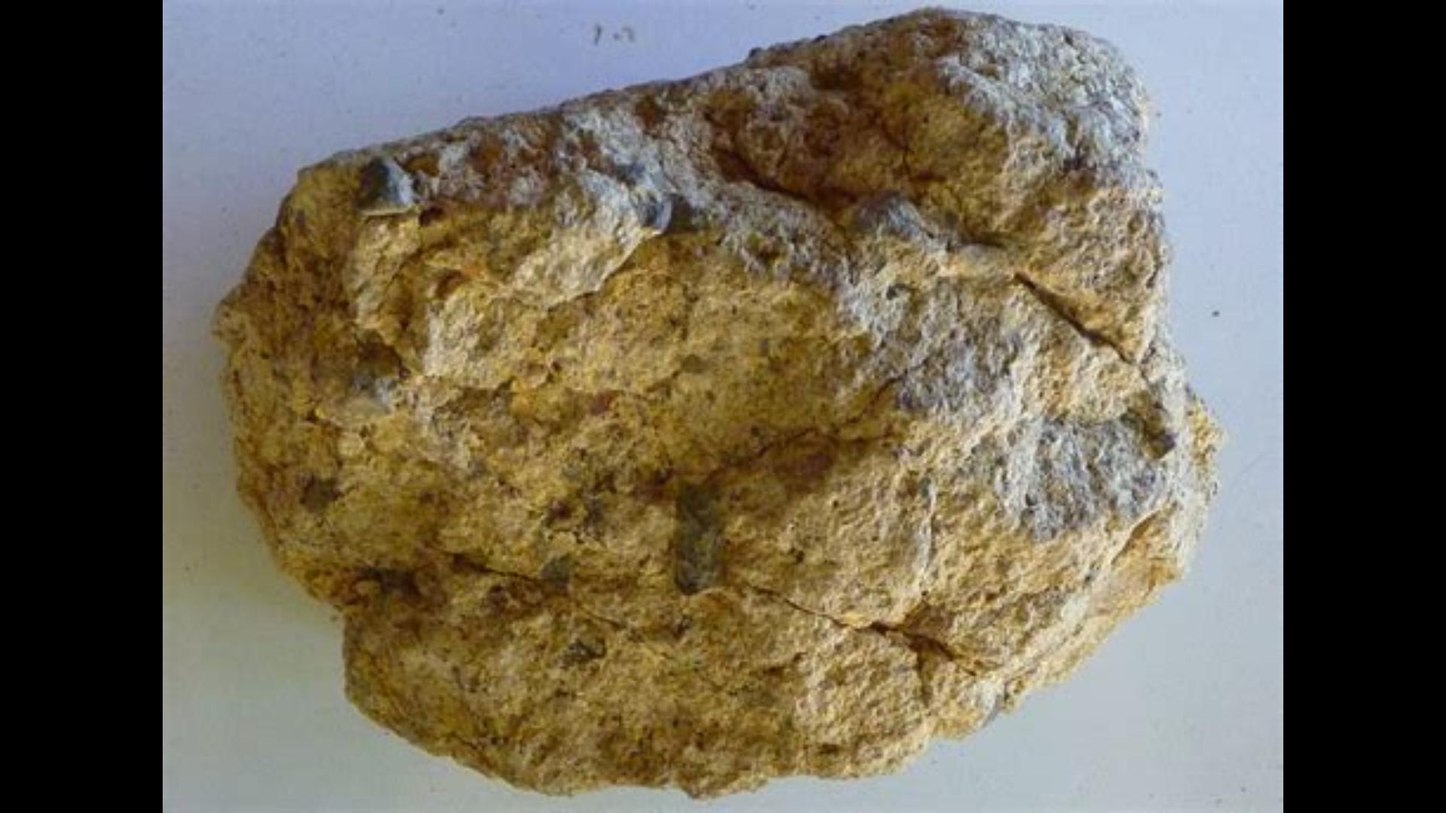rock: (217, 9, 1215, 789)
